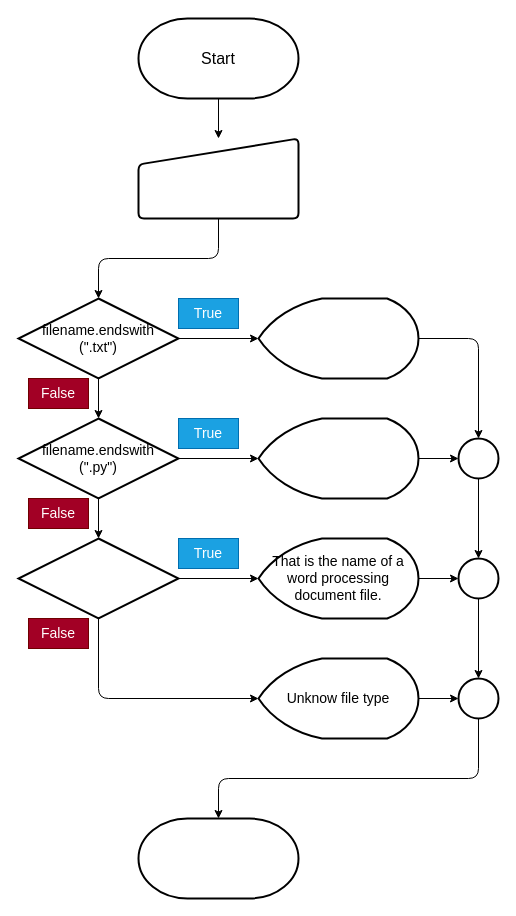
This 516x916 diagram has some shape labels left out. The shapes that lost their labels are listed below. From the top down, each one's box as (x1, y1, x2, y2) in pixels, then its label:
(137, 137, 299, 219): "Enter the file name : " filename
(257, 297, 419, 379): That is the name of a text file.
(257, 417, 419, 499): That is the name of a python source file.
(17, 537, 179, 619): filename.endswith (".doc")
(137, 817, 299, 899): End
